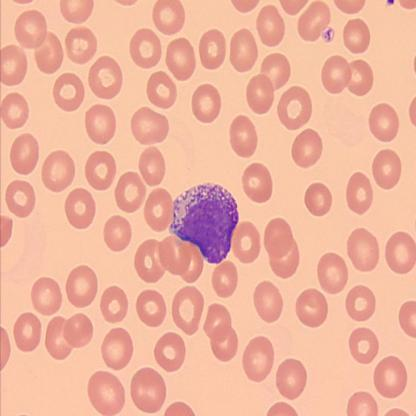Myelocyte: (171, 184, 240, 262)
